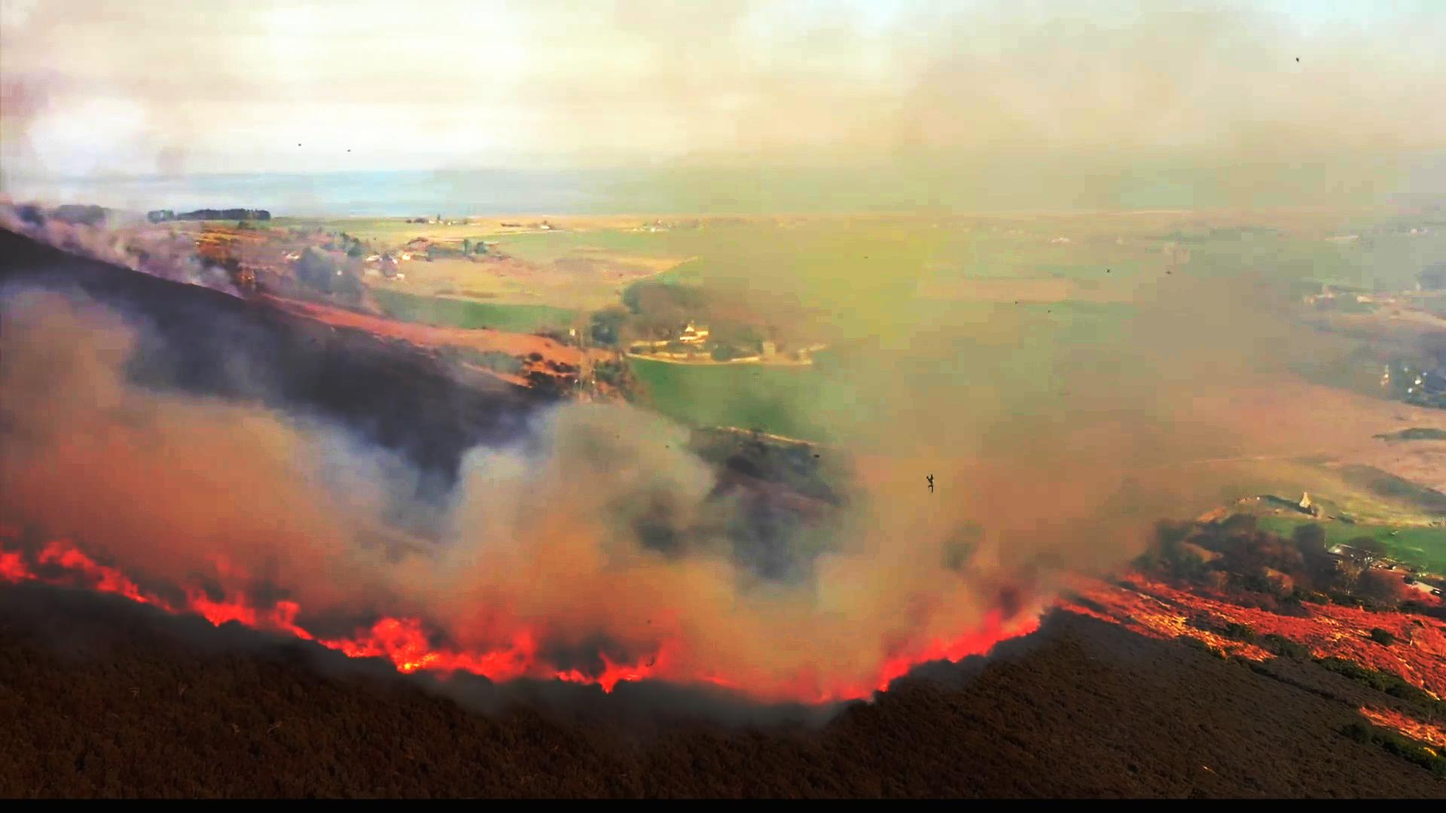fire: (358, 616, 533, 681), (924, 618, 1021, 667)
smoke: (876, 10, 1418, 301), (479, 394, 703, 607), (0, 403, 345, 538), (887, 356, 1126, 547), (0, 285, 159, 517)
